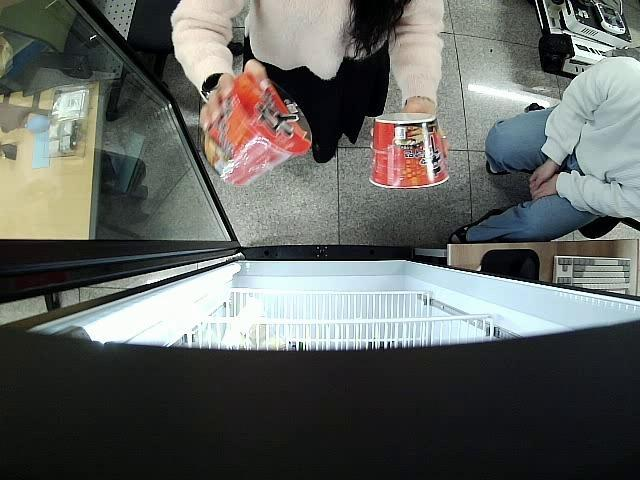01_ShinRamen_L: (202, 70, 312, 186), (368, 112, 449, 188)
